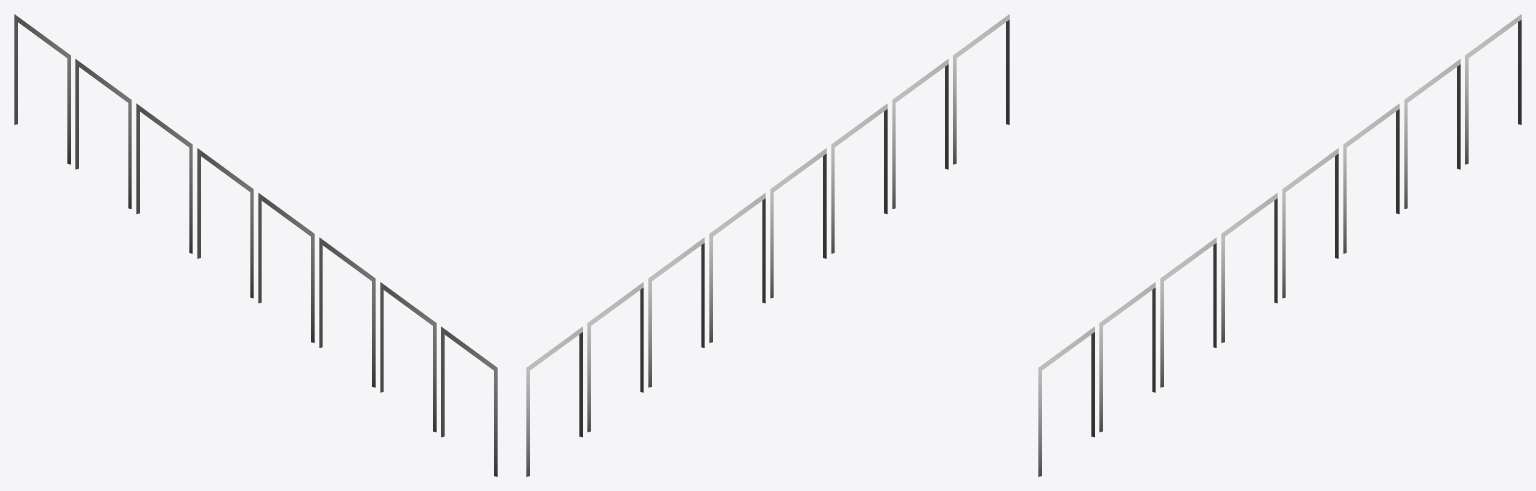
The model's file is AMB_SAKU.glb.
The picture shows the model from 3 angles, left to right: view 1: azimuth 30°, elevation 25°; view 2: azimuth 150°, elevation 25°; view 3: azimuth 330°, elevation 25°; orthographic projection.
Visible parts, largest first — view 1: J06, J03, J00, J07, J05, J04, J02, J01; view 2: J07, J04, J01, J06, J05, J03, J02, J00; view 3: J06, J03, J00, J07, J05, J04, J02, J01.
Boxes of the visible parts, left/top/right/bottom form: J06: left=380, top=282, right=436, bottom=432; J03: left=197, top=148, right=253, bottom=298; J00: left=14, top=14, right=70, bottom=164; J07: left=441, top=326, right=497, bottom=476; J05: left=319, top=237, right=375, bottom=387; J04: left=258, top=193, right=314, bottom=342; J02: left=136, top=103, right=192, bottom=253; J01: left=75, top=59, right=131, bottom=208; J07: left=953, top=14, right=1009, bottom=164; J04: left=770, top=148, right=826, bottom=298; J01: left=587, top=282, right=643, bottom=432; J06: left=892, top=59, right=948, bottom=208; J05: left=831, top=103, right=887, bottom=253; J03: left=709, top=193, right=765, bottom=342; J02: left=648, top=237, right=704, bottom=387; J00: left=526, top=326, right=582, bottom=476; J06: left=1099, top=282, right=1155, bottom=432; J03: left=1282, top=148, right=1338, bottom=298; J00: left=1465, top=14, right=1521, bottom=164; J07: left=1038, top=326, right=1094, bottom=476; J05: left=1160, top=237, right=1216, bottom=387; J04: left=1221, top=193, right=1277, bottom=342; J02: left=1343, top=103, right=1399, bottom=253; J01: left=1404, top=59, right=1460, bottom=208.
Size of the model in its own units: 0.2536 by 7.42 by 59.44.
Materials: 8 (8 with a texture image).
